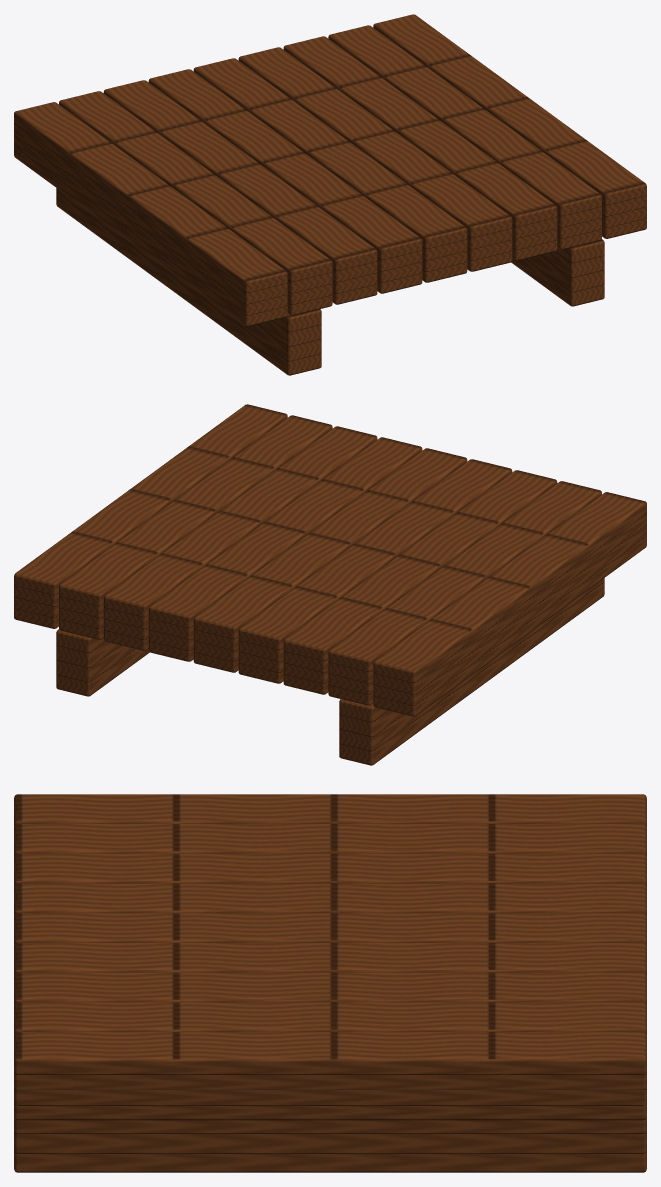
Rendered from modular-survival-base-builder-trench-bridge-foundation-a20170fd__24135.glb.
The picture shows the model from 3 angles, top to bottom: view 1: azimuth 30°, elevation 25°; view 2: azimuth 150°, elevation 25°; view 3: azimuth 270°, elevation 25°; orthographic projection. The views are drawn at different scales.
Parts seen in each view (by area): view 1: trench-bridge-foundation; view 2: trench-bridge-foundation; view 3: trench-bridge-foundation.
Boxes of the visible parts, x1,y1,x2,y2 form: trench-bridge-foundation: (14,14,646,375); trench-bridge-foundation: (14,404,646,765); trench-bridge-foundation: (14,794,646,1172).
Bounding box in the file's own units: 1.99 × 0.5001 × 2.
Materials: 1 (1 with a texture image).
